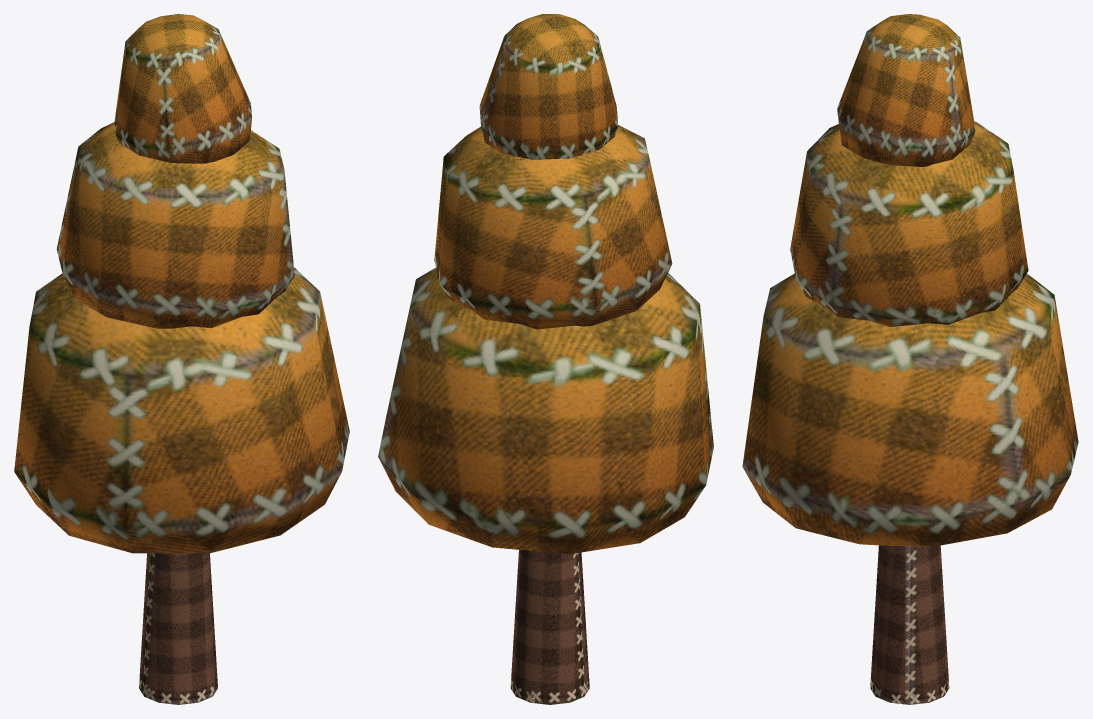
File: lpb_cs_tree23.fbx
The picture shows the model from 3 angles, left to right: view 1: azimuth 30°, elevation 25°; view 2: azimuth 150°, elevation 25°; view 3: azimuth 270°, elevation 25°; orthographic projection.
Parts seen in each view (by area): view 1: lpb_cs_tree23; view 2: lpb_cs_tree23; view 3: lpb_cs_tree23.
Boxes of the visible parts, <box> form: lpb_cs_tree23: <box>14,14,349,704</box>; lpb_cs_tree23: <box>378,14,713,704</box>; lpb_cs_tree23: <box>742,14,1078,704</box>.
Size of the model in its own units: 89.2 by 196 by 89.35.
